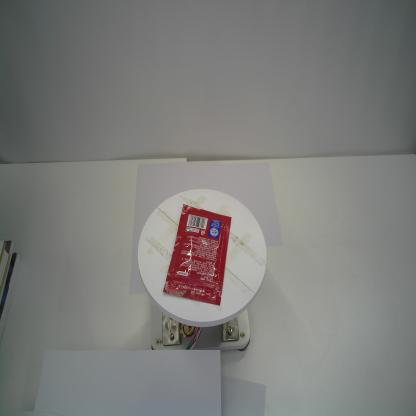Seasoner: (162, 203, 232, 306)
